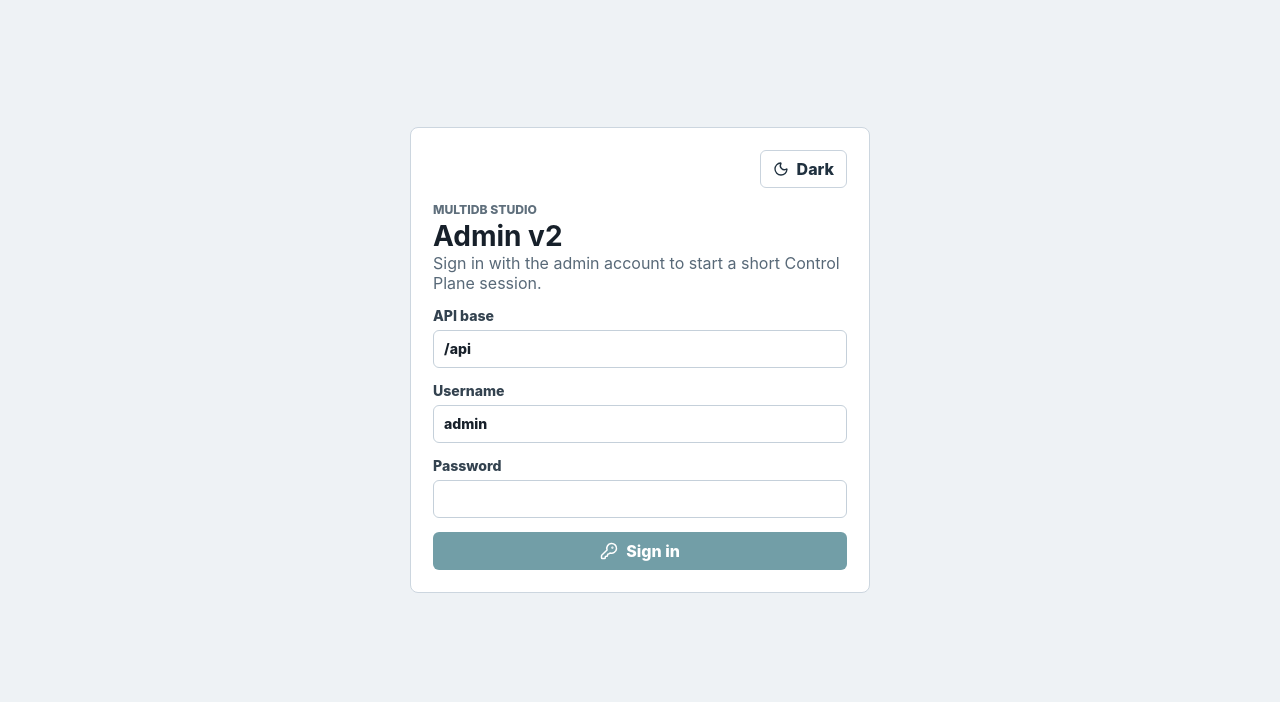
Test: App › toggles dark mode from the command bar
The width and height of the screenshot is (1280, 702).
In the password field labelled "Password": (640, 499) [433, 480, 847, 518], type "secret"
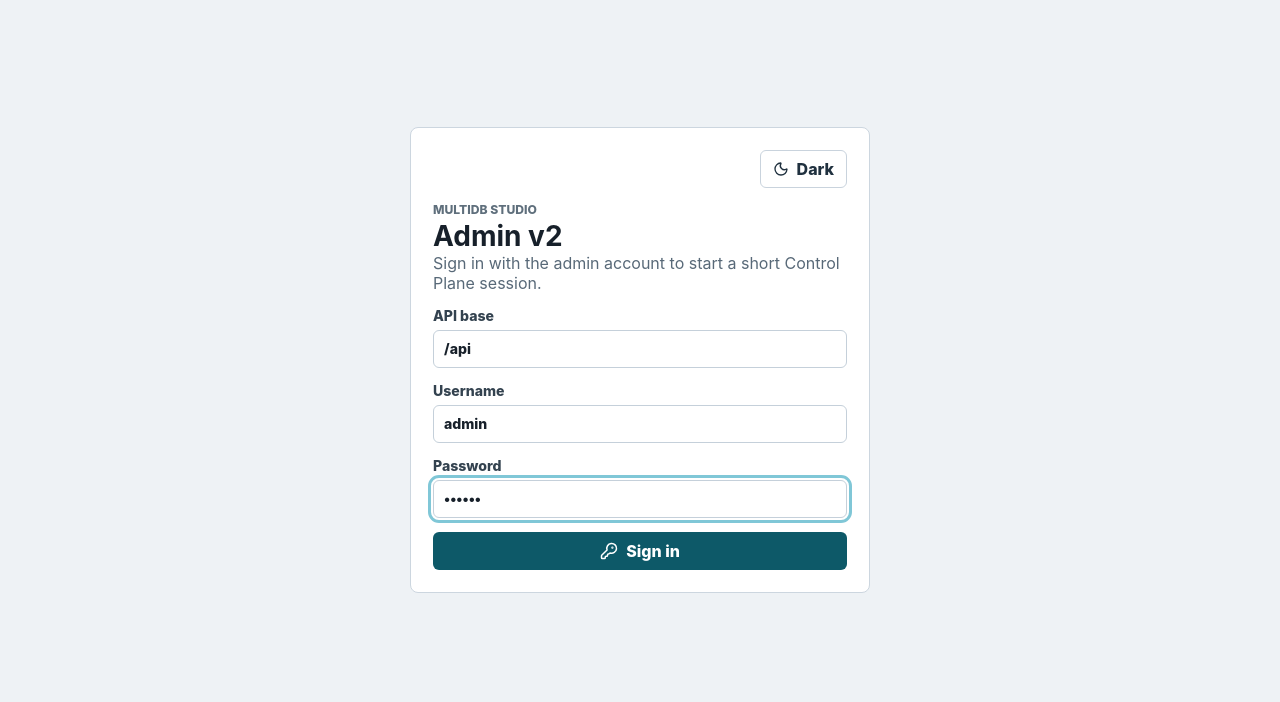
Click the button "Sign in": (640, 551) [433, 532, 847, 570]
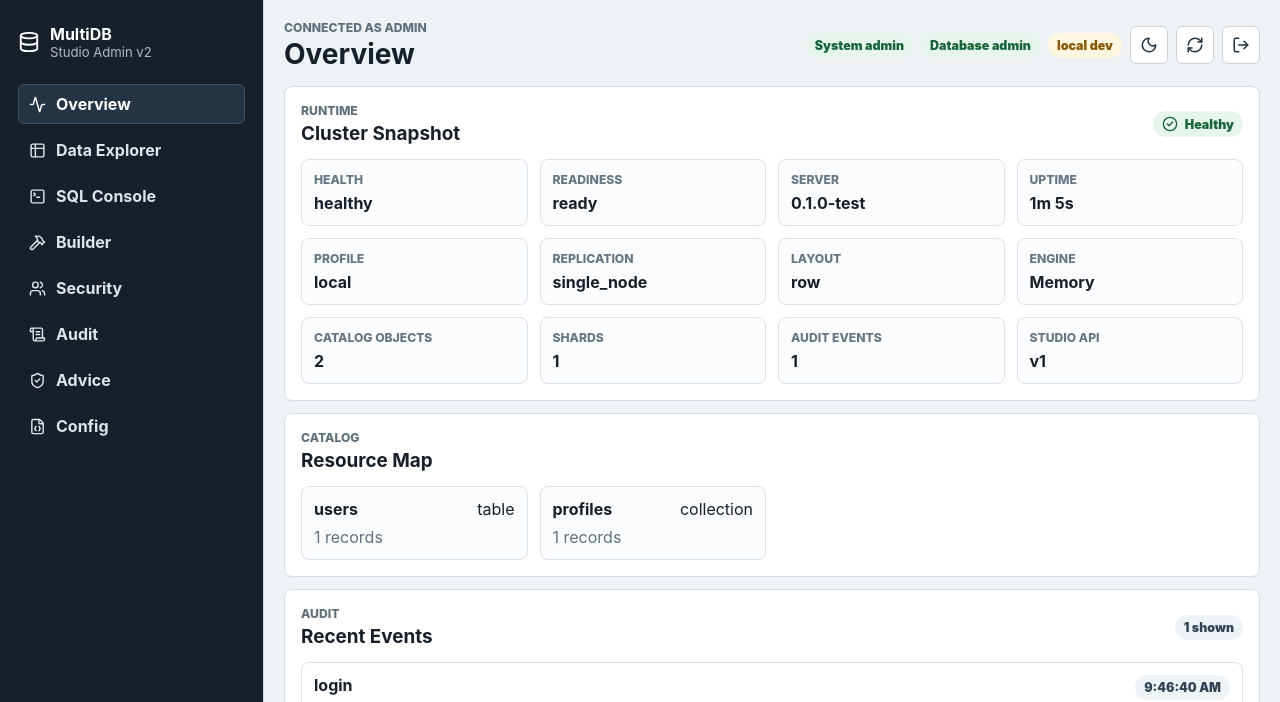
Now the text "0.1.0-test" is shown, box [791, 193, 865, 213]
Click the button named "dark mode": (1149, 45) [1130, 26, 1168, 64]
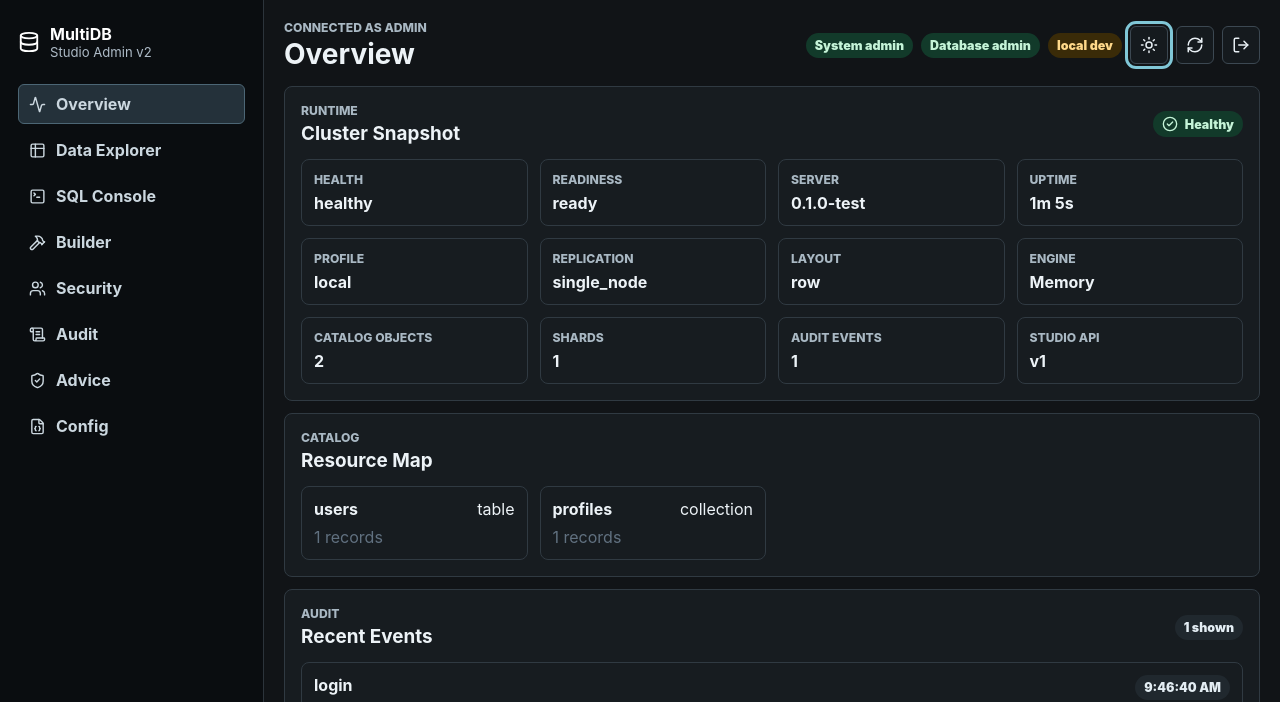
Now the button named "light mode" is shown, box [1130, 26, 1168, 64]
